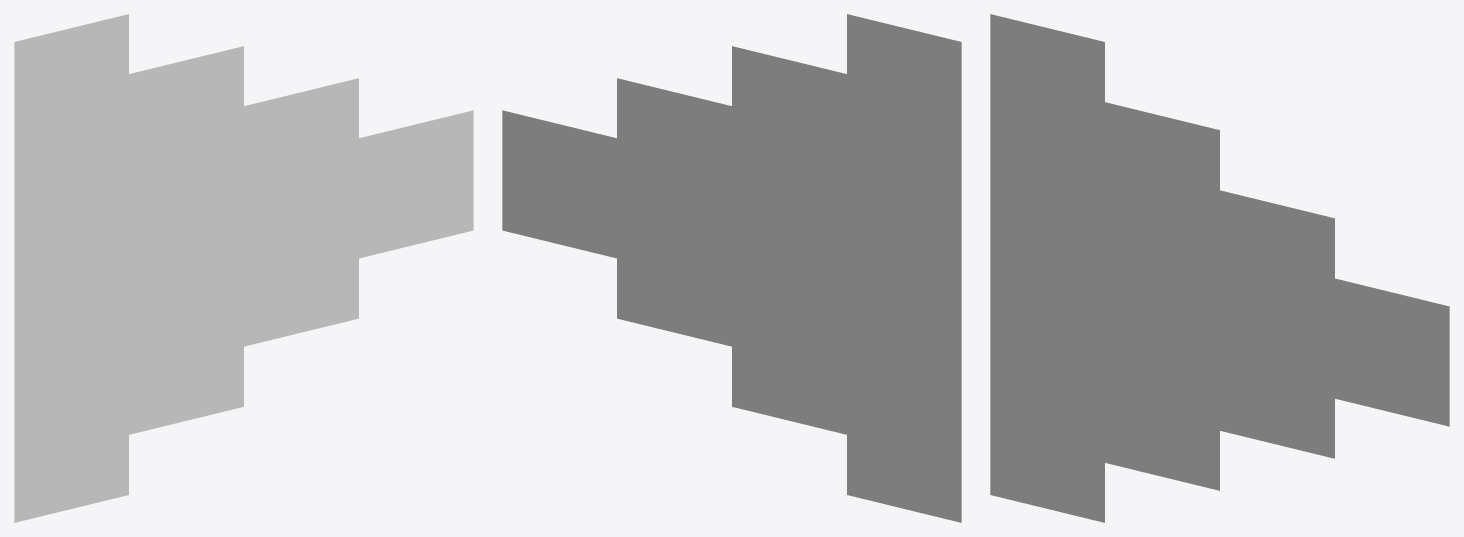
The model's file is chr142_wtf.obj.
The picture shows the model from 3 angles, left to right: view 1: azimuth 30°, elevation 25°; view 2: azimuth 150°, elevation 25°; view 3: azimuth 330°, elevation 25°; orthographic projection.
Visible parts, largest first — view 1: group1; view 2: group1; view 3: group1.
Part boxes in pixels (box(x1,y1,x2,y2)): group1: box(14, 14, 473, 522); group1: box(502, 14, 961, 522); group1: box(990, 14, 1449, 522).
Size of the model in its own units: 660 by 660 by 1.4e-05.
